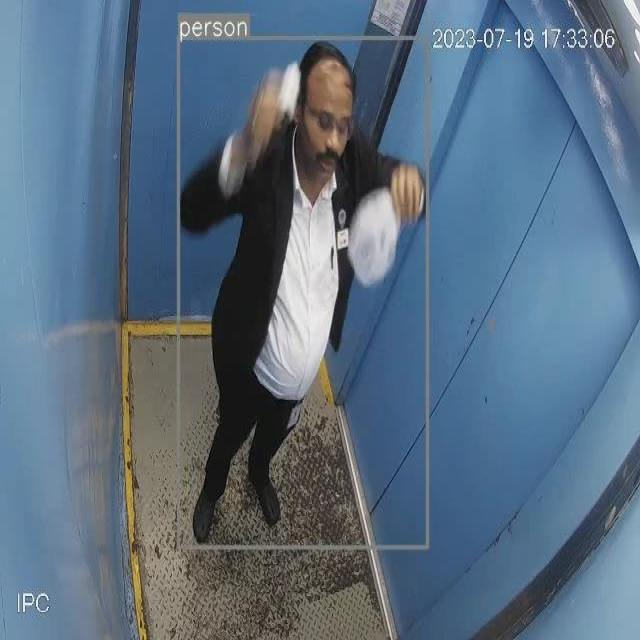person: (182, 37, 427, 548)
